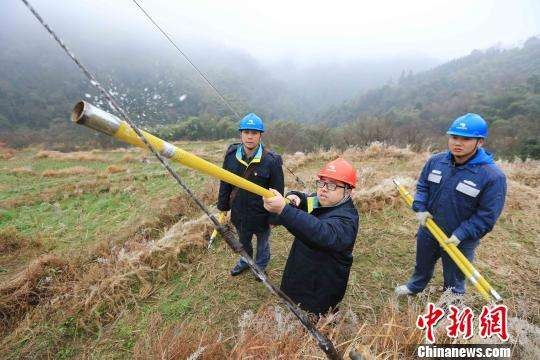blue: (446, 111, 486, 159), (236, 111, 265, 150)
red: (313, 159, 357, 207)
